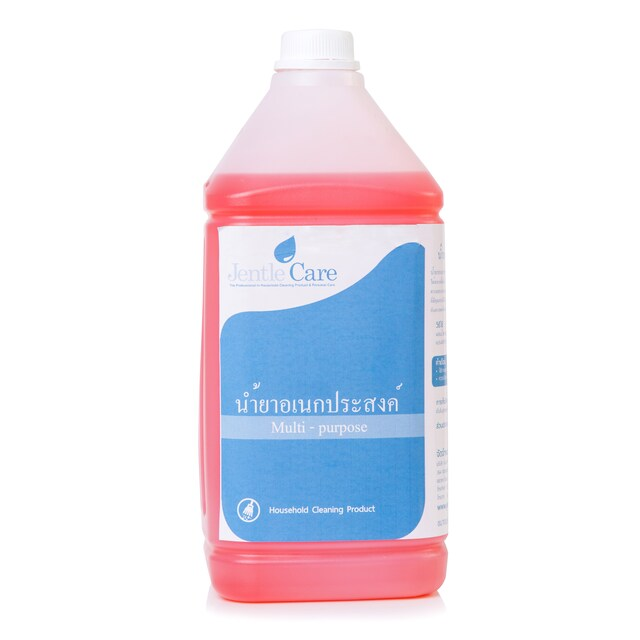Cleaning_solution: (191, 18, 451, 607)
